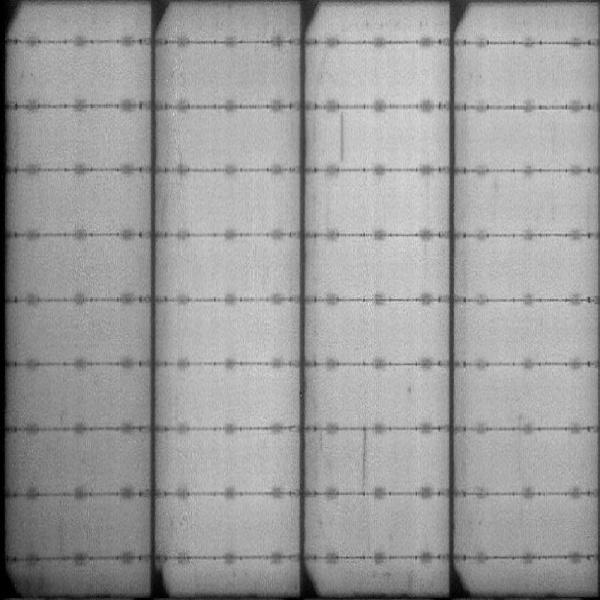scratch: (355, 423, 372, 484), (336, 109, 351, 163)
